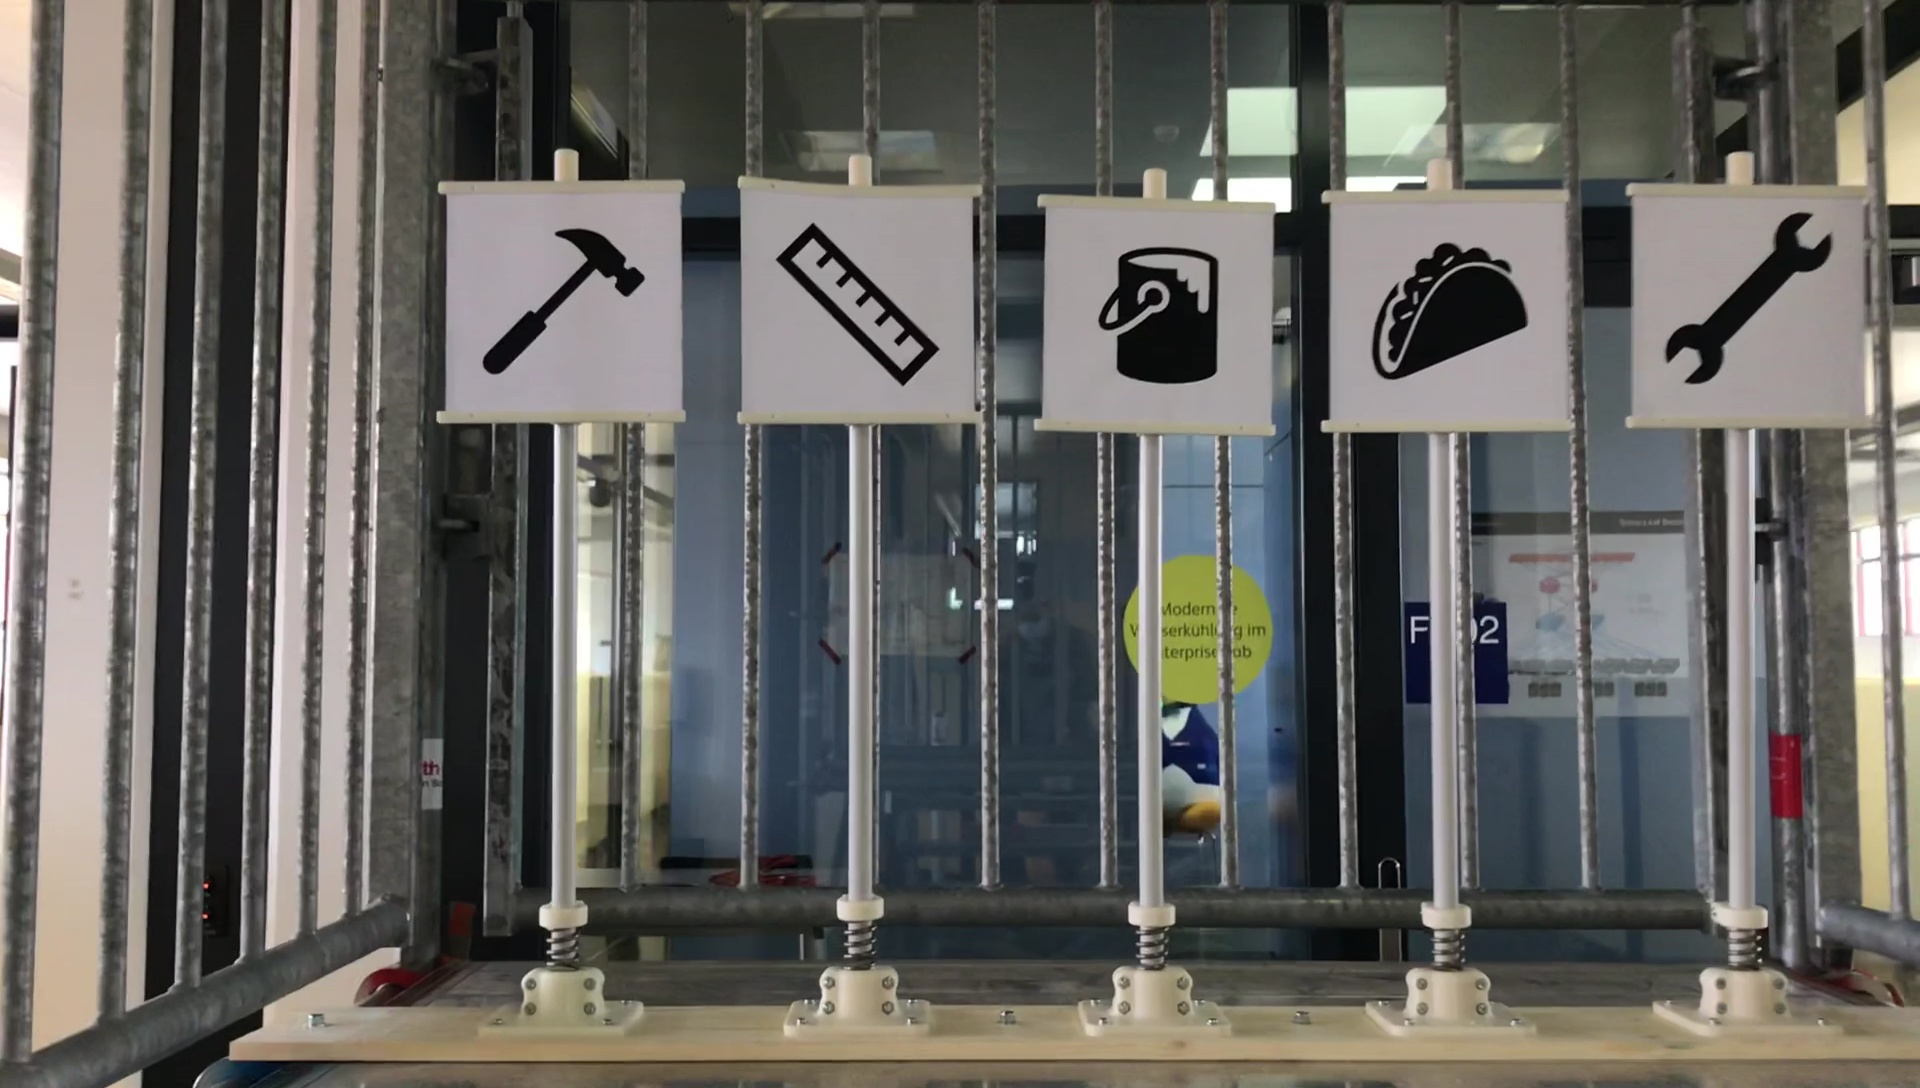bucket: (1096, 237, 1236, 390)
hammer: (475, 218, 658, 384)
ruler: (767, 223, 938, 393)
taco: (1367, 235, 1532, 386)
wrench: (1659, 203, 1834, 389)
